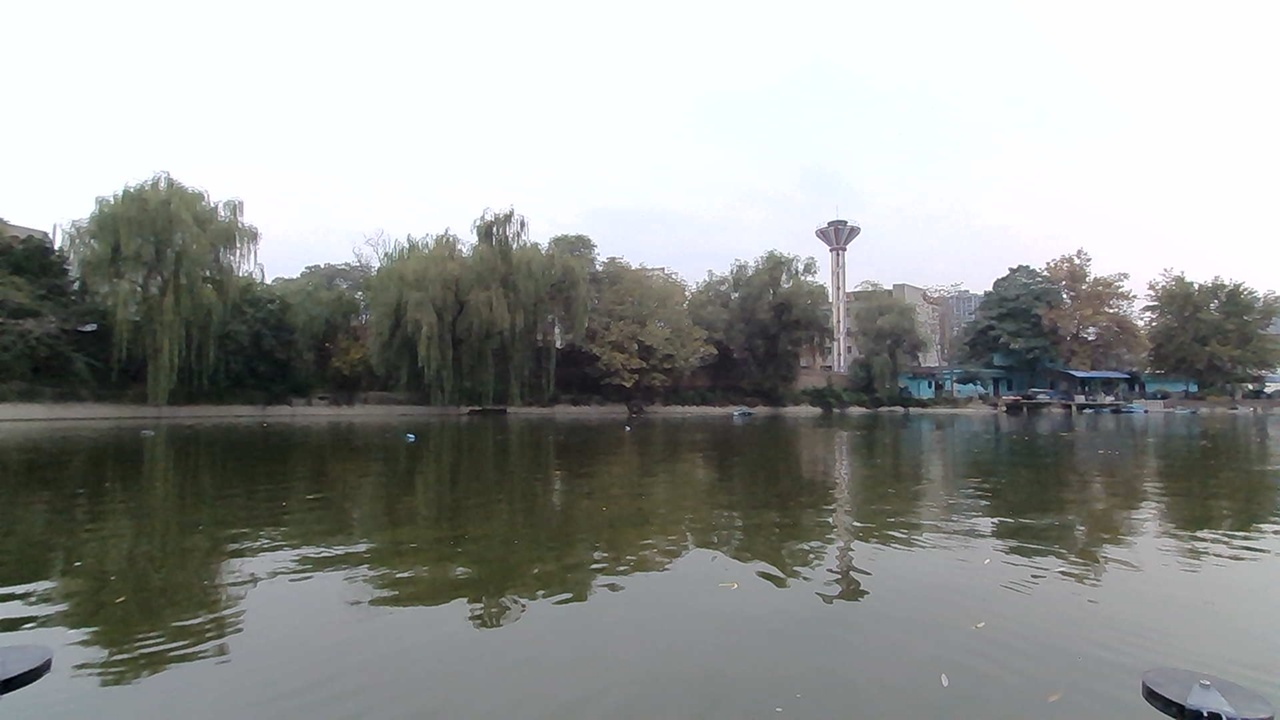bottle: (393, 428, 424, 446)
